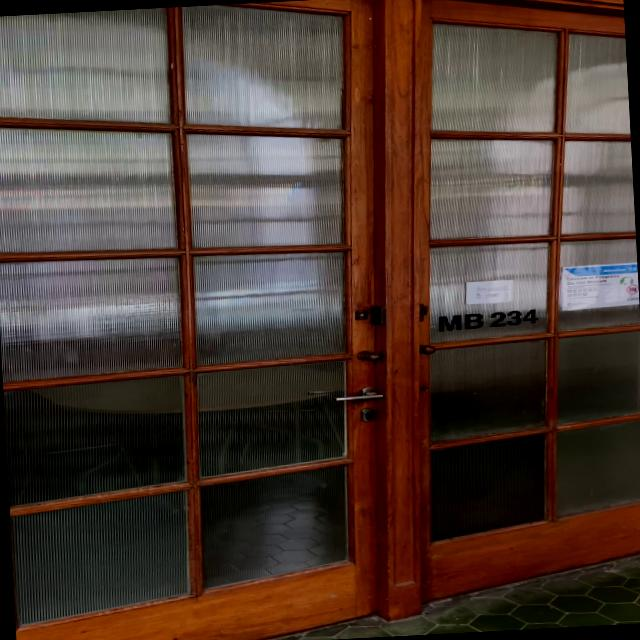room234Window: (428, 304, 546, 334)
